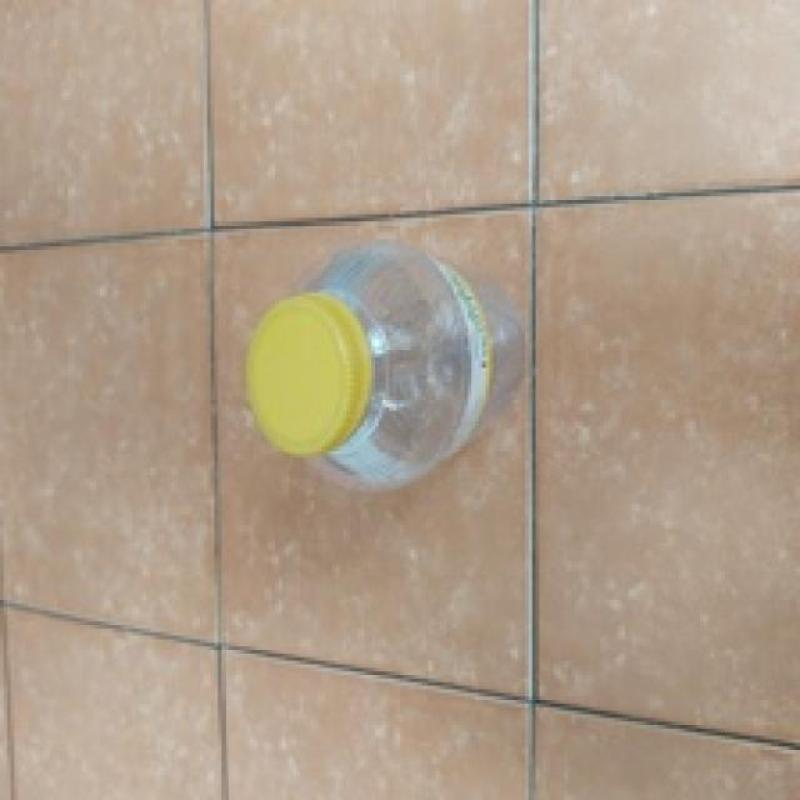botella: (245, 216, 527, 495)
